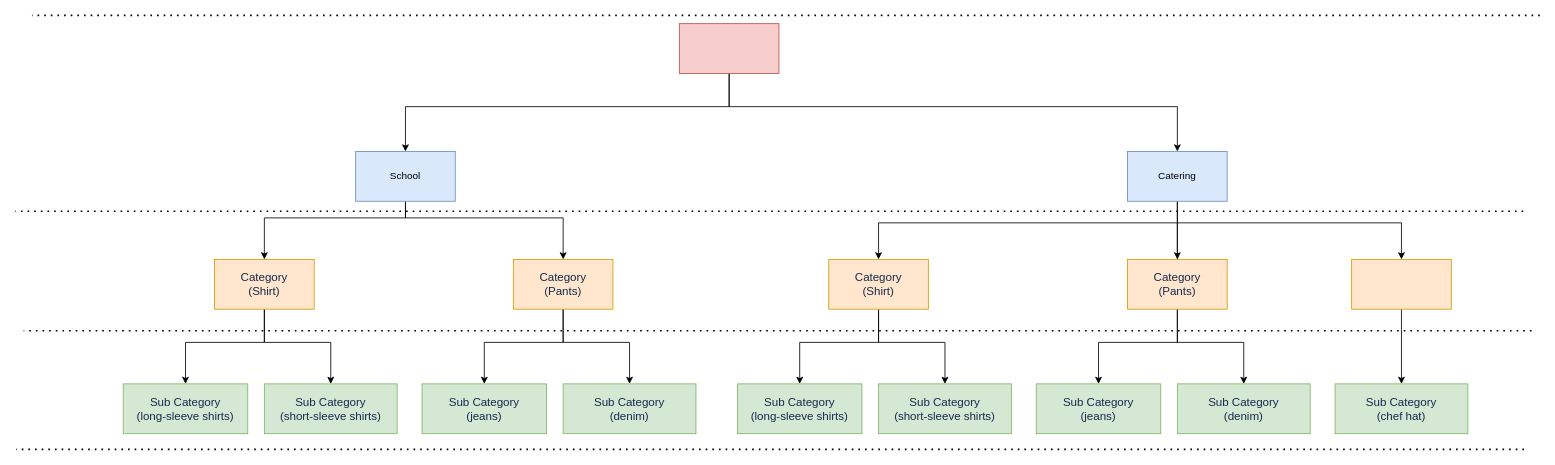
Some shapes in this 1555 by 465 pixel diagram are drawn without their labels. Each missing label, with the centre of its shape:
Category (Hat): (x=1401, y=284)
Department: (x=729, y=48)
